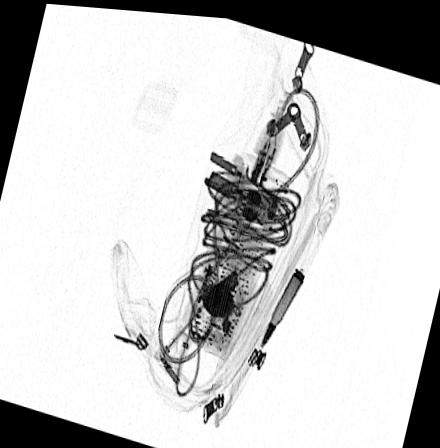Bullet: (258, 262, 304, 345)
